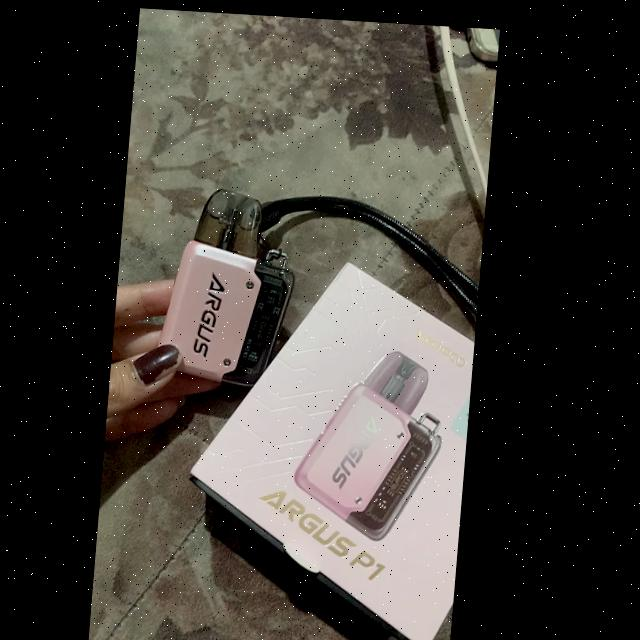vape: (300, 343, 456, 537), (158, 183, 299, 385)
